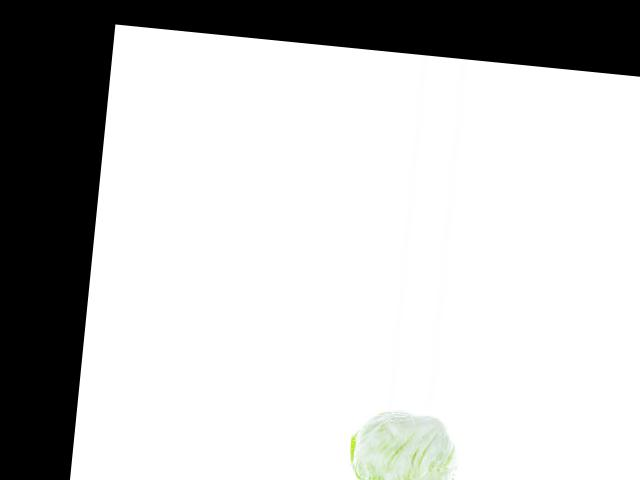lettuce: (347, 411, 460, 480)
